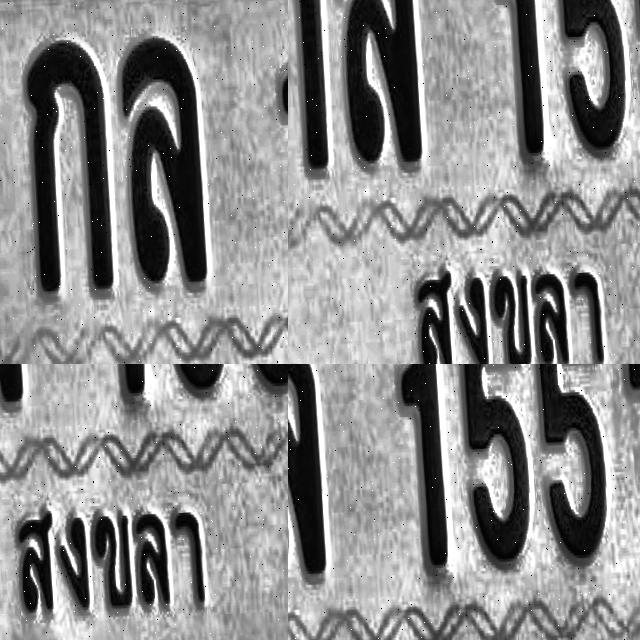license-plate: (0, 0, 288, 364), (288, 364, 640, 640), (288, 0, 518, 156)
